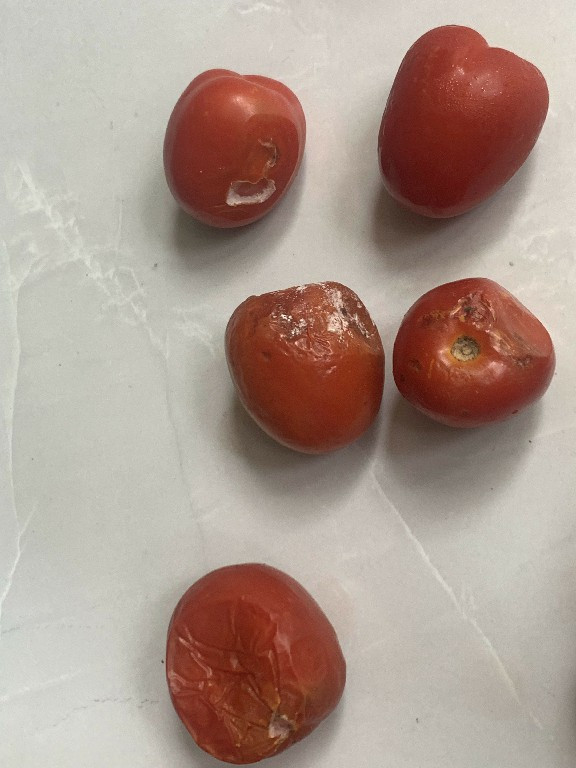NG: (209, 272, 388, 460), (153, 56, 313, 234)
OK: (157, 558, 355, 768), (372, 18, 550, 223), (388, 268, 556, 433)
